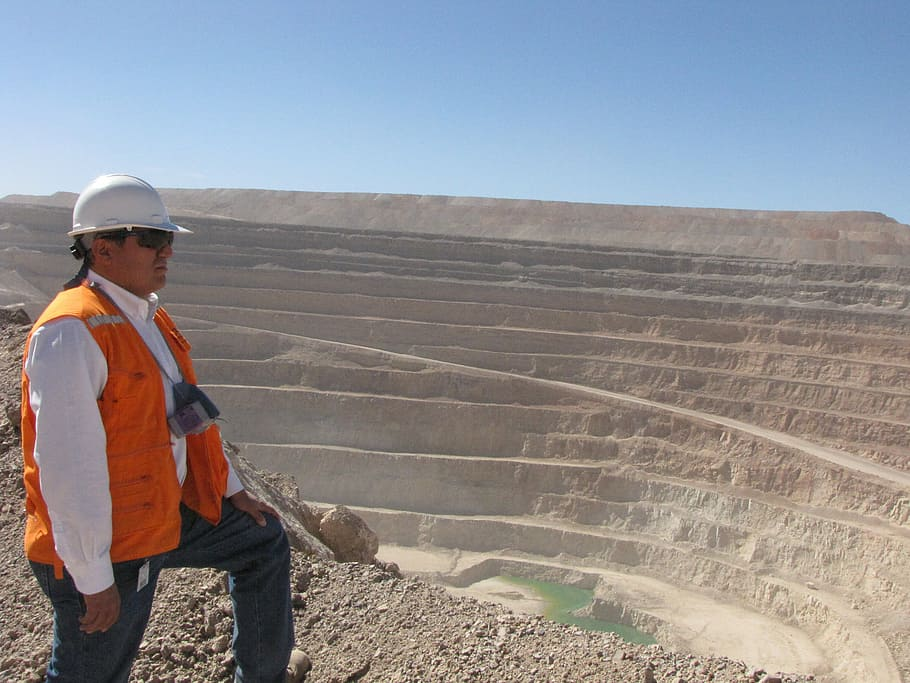Hard Hat: (66, 173, 194, 294)
Person: (23, 170, 313, 683)
Vest: (25, 235, 280, 576)
